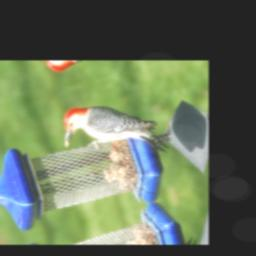Woodpecker: (52, 85, 176, 183)
